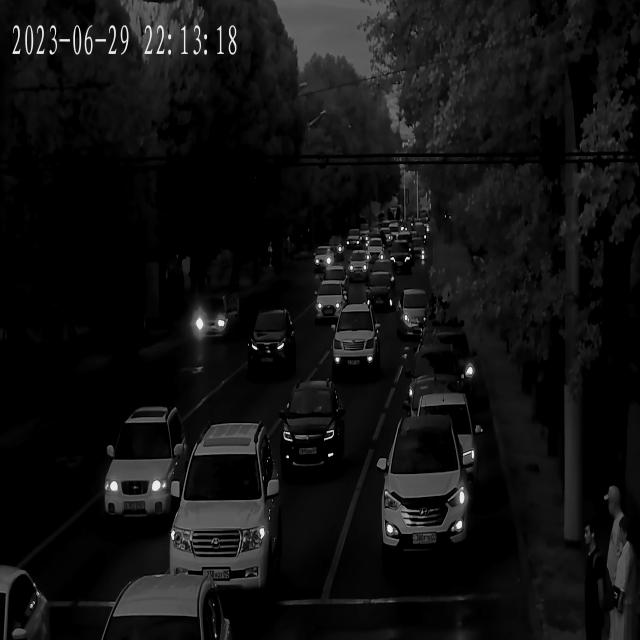Car: (172, 425, 282, 587), (378, 416, 474, 566), (104, 410, 192, 534), (100, 576, 234, 640), (278, 381, 345, 474), (403, 400, 478, 470), (0, 562, 50, 638), (399, 348, 467, 403), (329, 306, 380, 378), (414, 333, 476, 387), (249, 312, 299, 378), (406, 372, 469, 421), (393, 288, 434, 340), (191, 305, 232, 344), (314, 284, 352, 325), (362, 270, 396, 302), (362, 285, 396, 310), (366, 265, 396, 288), (387, 243, 412, 270), (347, 252, 370, 276), (313, 248, 334, 268), (346, 230, 364, 248), (367, 242, 386, 258), (326, 240, 345, 256)
